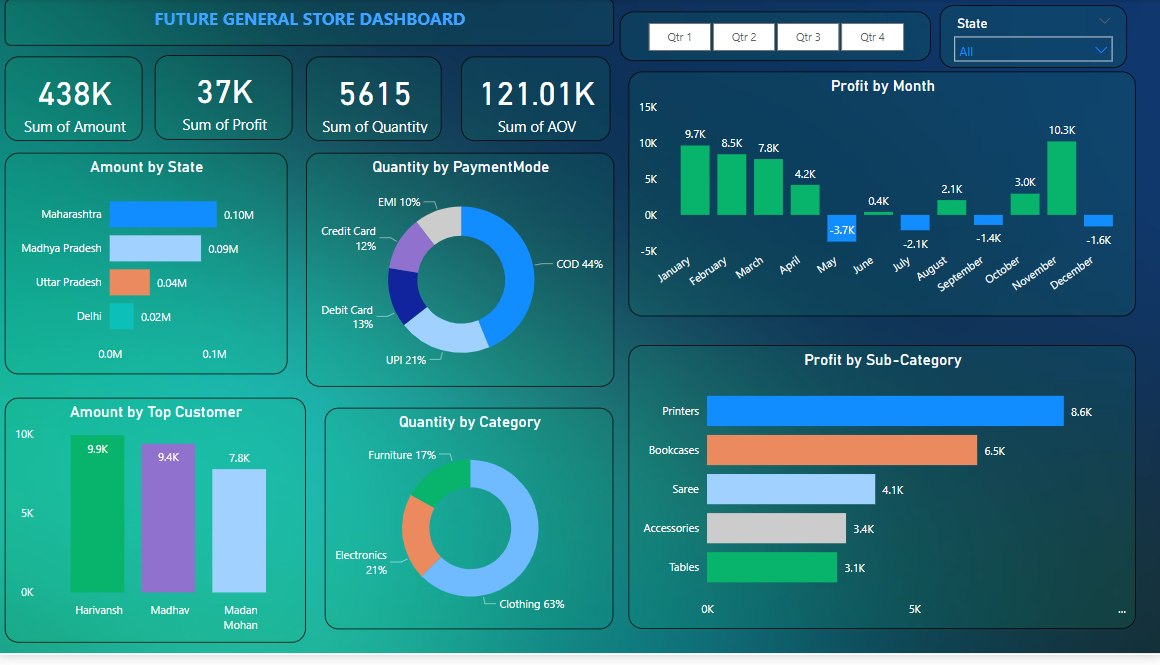

Layout of this report page (visuals, bound fields, positions):
{"tool":"powerbi","page":{"name":"Page 1","canvas":[1280,720],"ordinal":0},"visuals":[{"type":"textbox","box":[10,0,668.6,51.4],"z":0},{"type":"columnChart","title":"Profit by Month","fields":{"Y":["Details.Profit"],"Category":["Orders.Order Date.Variation.Date Hierarchy.Month"]},"box":[694.3,80,557.1,268.6],"z":1000},{"type":"barChart","title":"Profit by Sub-Category","fields":{"Category":["Details.Sub-Category"],"Y":["Details.Profit"]},"box":[694.3,380,557.1,311.4],"z":2000},{"type":"donutChart","title":"Quantity by Category","fields":{"Category":["Details.Category"],"Y":["Details.Quantity"],"Series":["Details.Category"]},"box":[361.4,448.6,317.1,242.9],"z":3000},{"type":"donutChart","title":"Quantity by PaymentMode","fields":{"Y":["Details.Quantity"],"Category":["Details.PaymentMode"],"Series":["Details.PaymentMode"]},"box":[340,168.6,338.6,257.1],"z":4000},{"type":"barChart","title":"Amount by State","fields":{"Category":["Orders.State"],"Y":["Details.Amount"]},"box":[10,168.6,310,242.9],"z":5000},{"type":"columnChart","title":"Amount by Top Customer","fields":{"Y":["Details.Amount"],"Category":["Orders.CustomerName"]},"box":[10,437.1,330,268.6],"z":6000},{"type":"card","fields":{"Values":["Details.Amount"]},"box":[10,62.9,151.4,92.9],"z":7000},{"type":"card","fields":{"Values":["Details.Profit"]},"box":[174.3,61.4,151.4,92.9],"z":7001},{"type":"card","fields":{"Values":["Details.Quantity"]},"box":[340,62.9,148.6,92.9],"z":7002},{"type":"card","fields":{"Values":["Details.AOV"]},"box":[510,62.9,164.3,92.9],"z":7003},{"type":"slicer","fields":{"Values":["Orders.Order Date.Variation.Date Hierarchy.Quarter"]},"box":[684.3,14.3,341.4,54.3],"z":7004},{"type":"slicer","fields":{"Values":["Orders.State"]},"box":[1035.7,7.1,205.7,68.6],"z":7005}]}

Visuals, with their boxes in screenshot pixels (x1, y1, x2, y2), scaled from the page's 1280x720 canvas onto the 1160x665 screenshot:
textbox: {"left": 9, "top": 0, "right": 615, "bottom": 47}
"Profit by Month" columnChart: {"left": 629, "top": 74, "right": 1134, "bottom": 322}
"Profit by Sub-Category" barChart: {"left": 629, "top": 351, "right": 1134, "bottom": 639}
"Quantity by Category" donutChart: {"left": 328, "top": 414, "right": 615, "bottom": 639}
"Quantity by PaymentMode" donutChart: {"left": 308, "top": 156, "right": 615, "bottom": 393}
"Amount by State" barChart: {"left": 9, "top": 156, "right": 290, "bottom": 380}
"Amount by Top Customer" columnChart: {"left": 9, "top": 404, "right": 308, "bottom": 652}
card - Details.Amount: {"left": 9, "top": 58, "right": 146, "bottom": 144}
card - Details.Profit: {"left": 158, "top": 57, "right": 295, "bottom": 143}
card - Details.Quantity: {"left": 308, "top": 58, "right": 443, "bottom": 144}
card - Details.AOV: {"left": 462, "top": 58, "right": 611, "bottom": 144}
slicer - Orders.Order Date.Variation.Date Hierarchy.Quarter: {"left": 620, "top": 13, "right": 930, "bottom": 63}
slicer - Orders.State: {"left": 939, "top": 7, "right": 1125, "bottom": 70}
